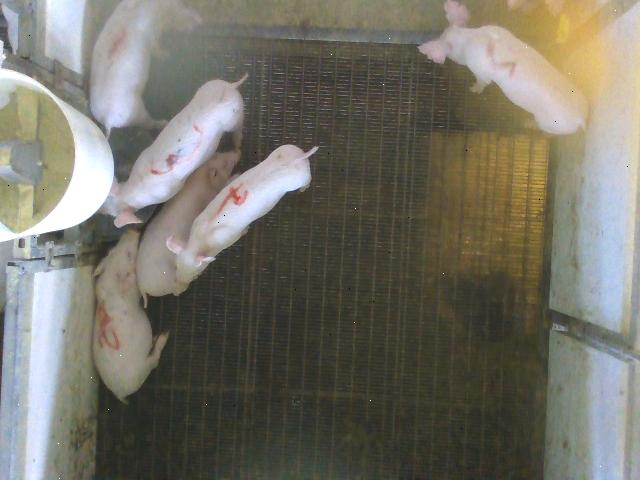pig-1: (90, 2, 160, 132)
pig-2: (419, 2, 588, 134)
pig-3: (101, 78, 245, 228)
pig-4: (168, 146, 318, 285)
pig-5: (92, 228, 169, 402)
